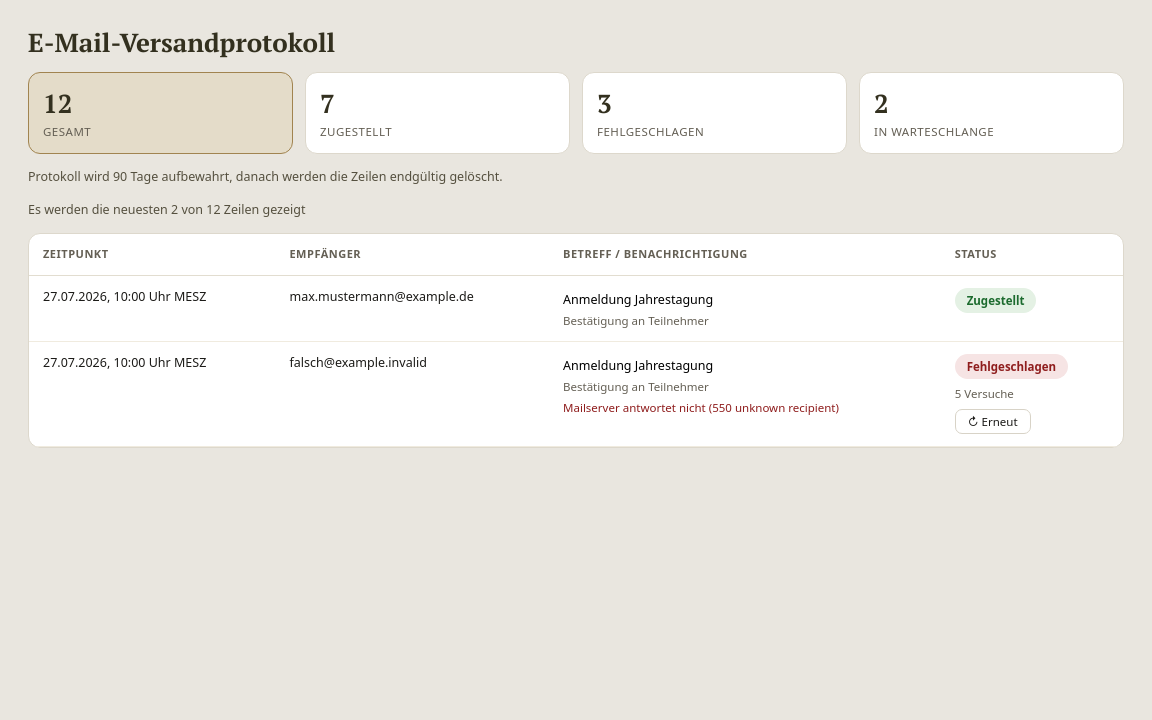
Test case: MailLogView › the detail panel › says so when the row predates the frozen body, instead of showing nothing
Expected: the heading "E-Mail-Versandprotokoll" is shown, x1=28 y1=28 x2=335 y2=58
Click the button "Anmeldung Jahrestagung" next to "max.mustermann@example.de". click: (638, 300)
box: x1=563 y1=288 x2=713 y2=312
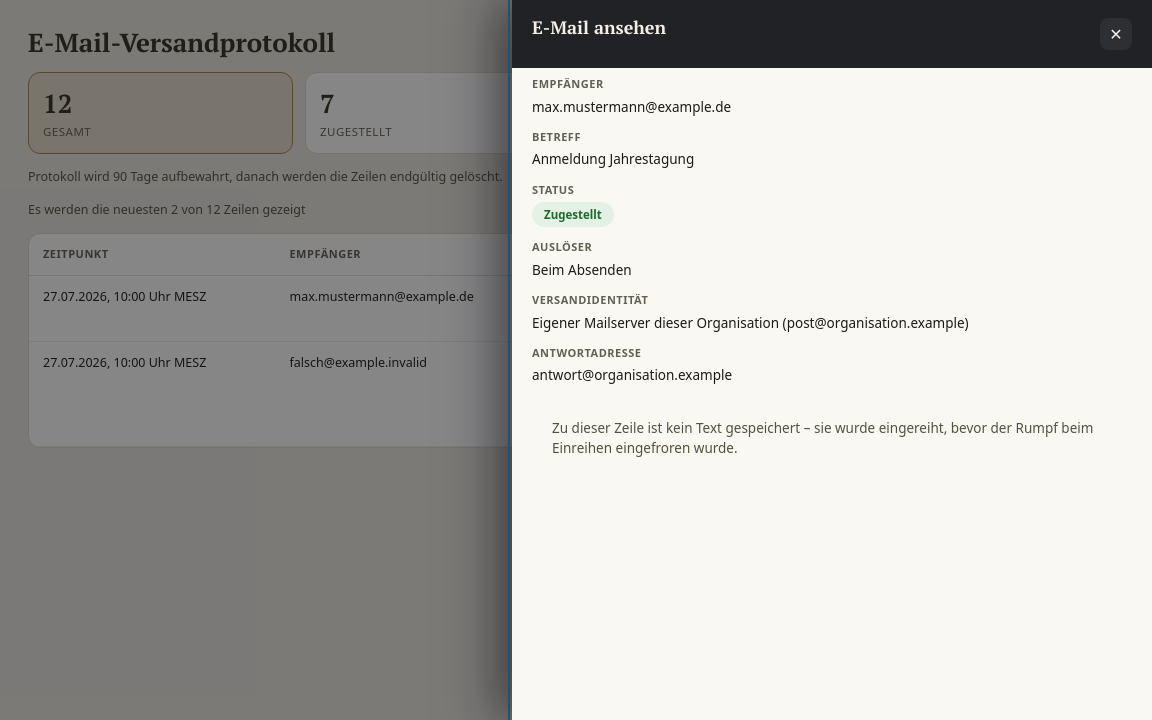
Now the dialog shows "kein Text gespeichert", box x1=552 y1=418 x2=1093 y2=457
